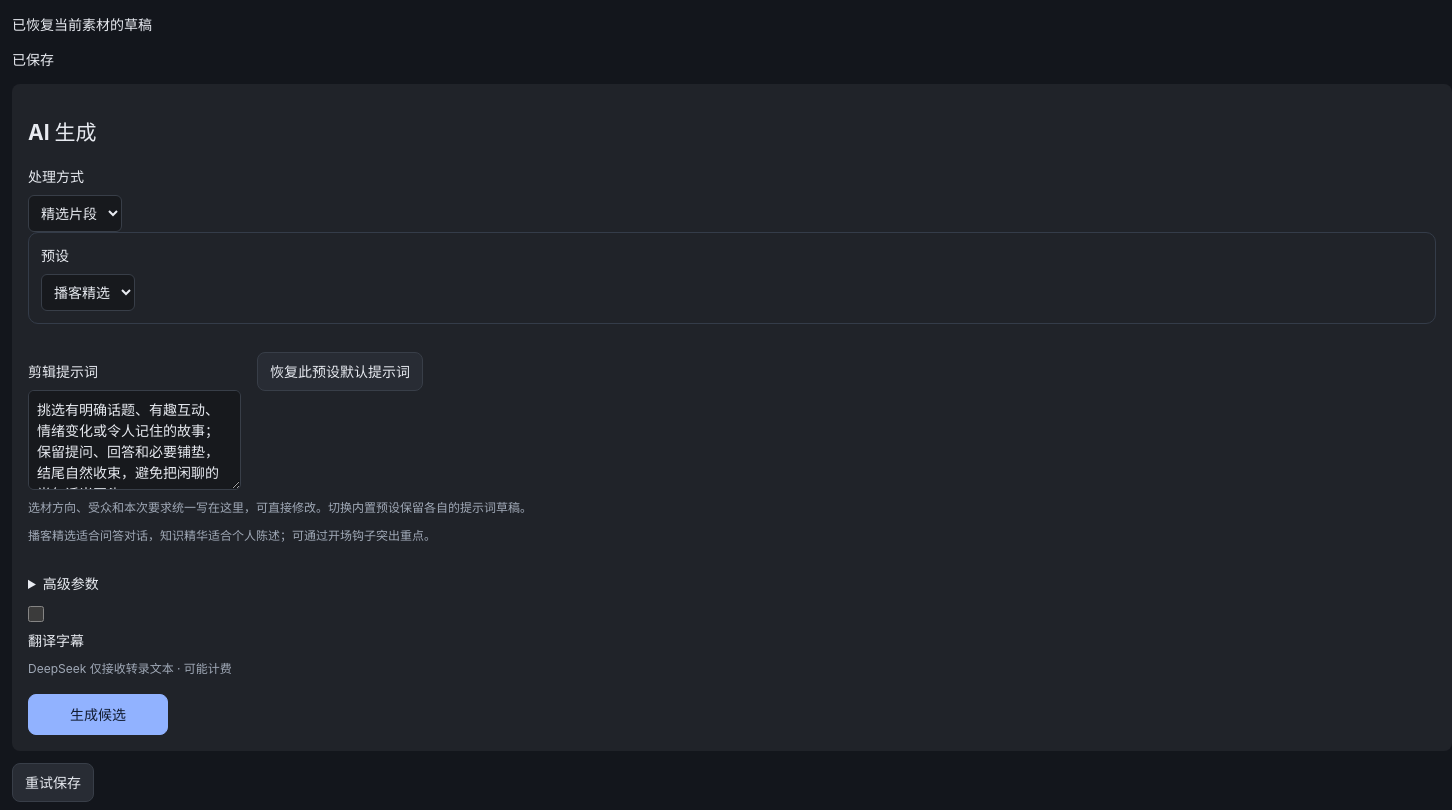
Test: 快速输入顺序保存最新值，旧响应不会覆盖草稿
Expected: the text "已保存" is shown, x1=12 y1=51 x2=54 y2=68
Replace the text in the text box labelled "剪辑提示词" with "第一版". click: (134, 440)
box: x1=28 y1=390 x2=241 y2=490
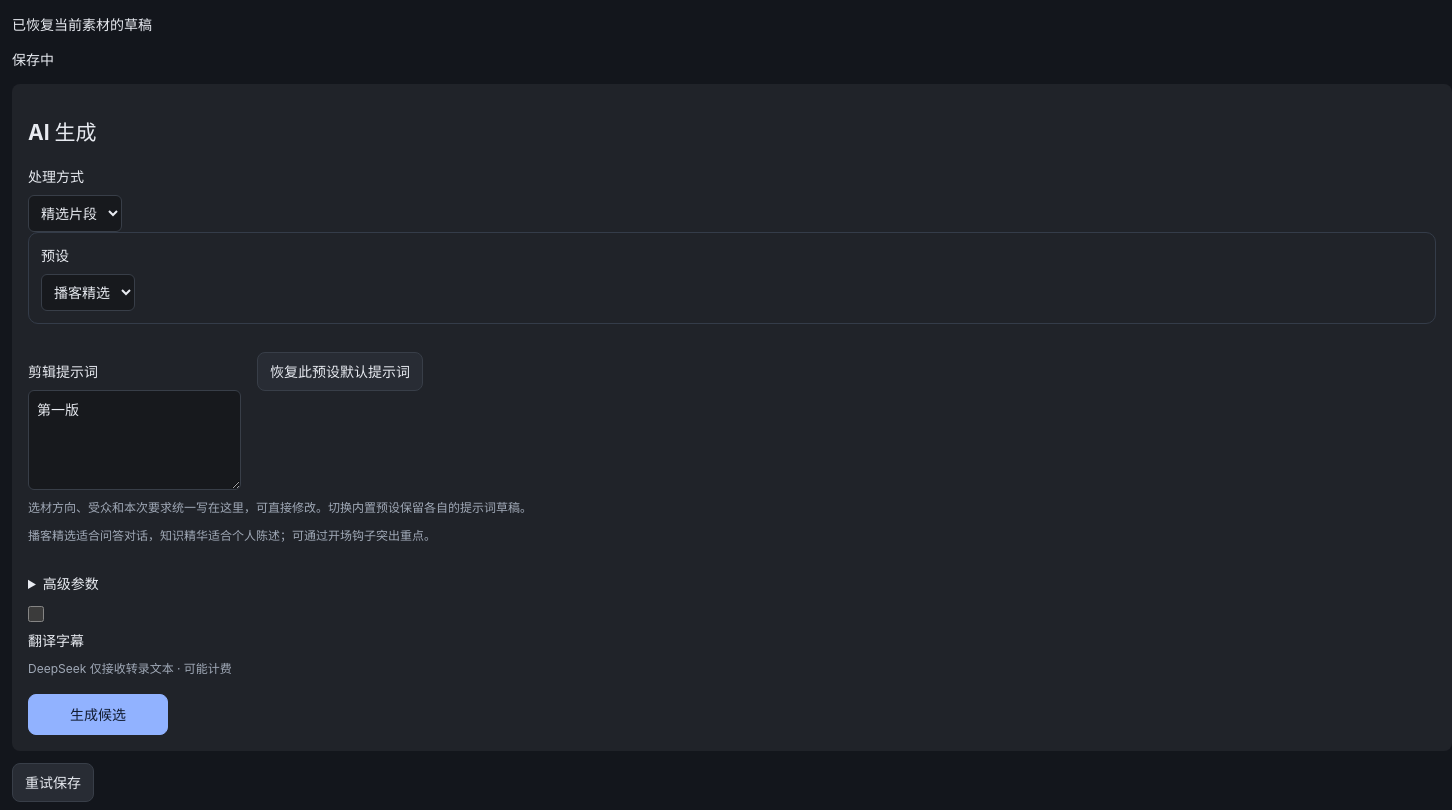
Replace the text in the text box labelled "剪辑提示词" with "第二版". click: (134, 440)
box: x1=28 y1=390 x2=241 y2=490
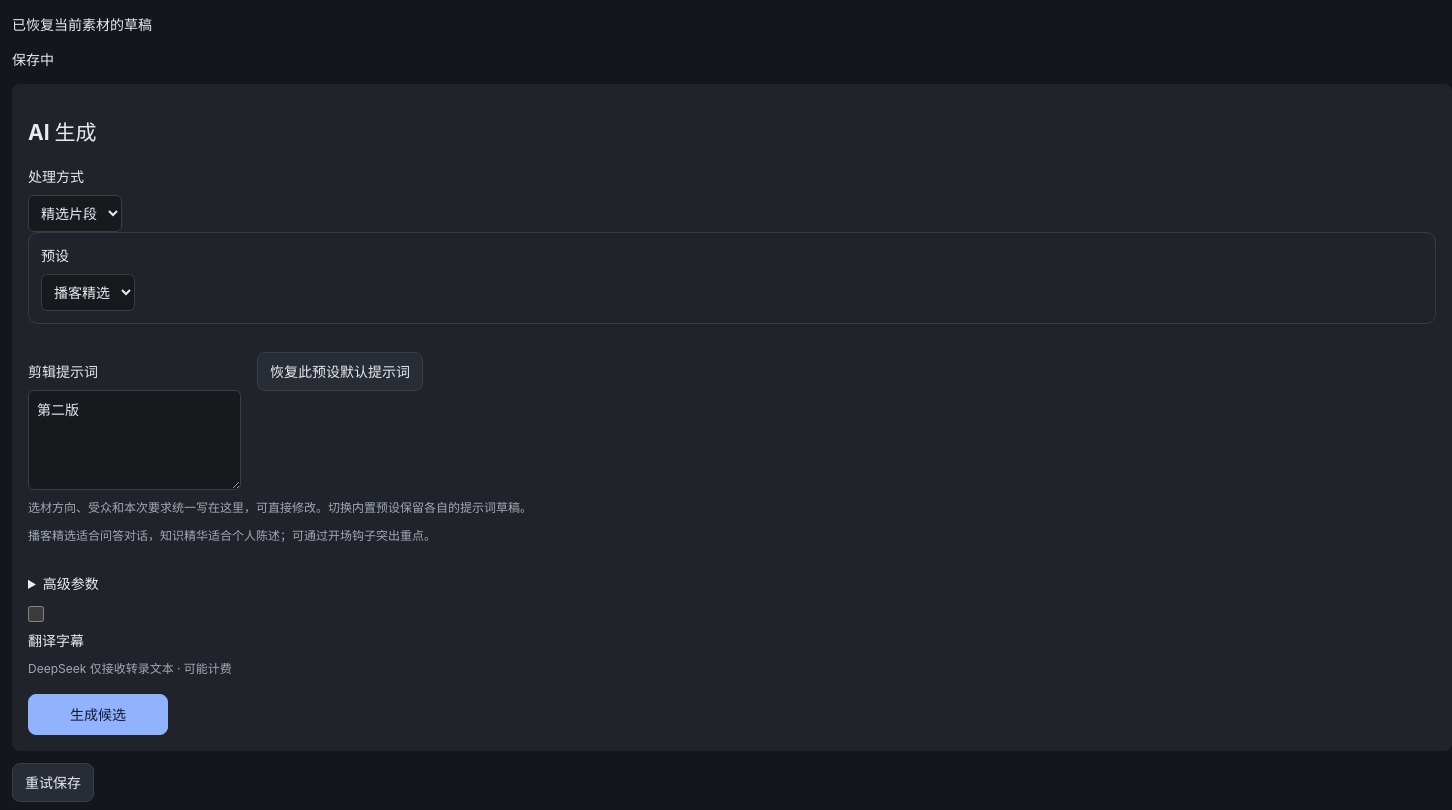
Replace the text in the text box labelled "剪辑提示词" with "最终版". click: (134, 440)
box: x1=28 y1=390 x2=241 y2=490
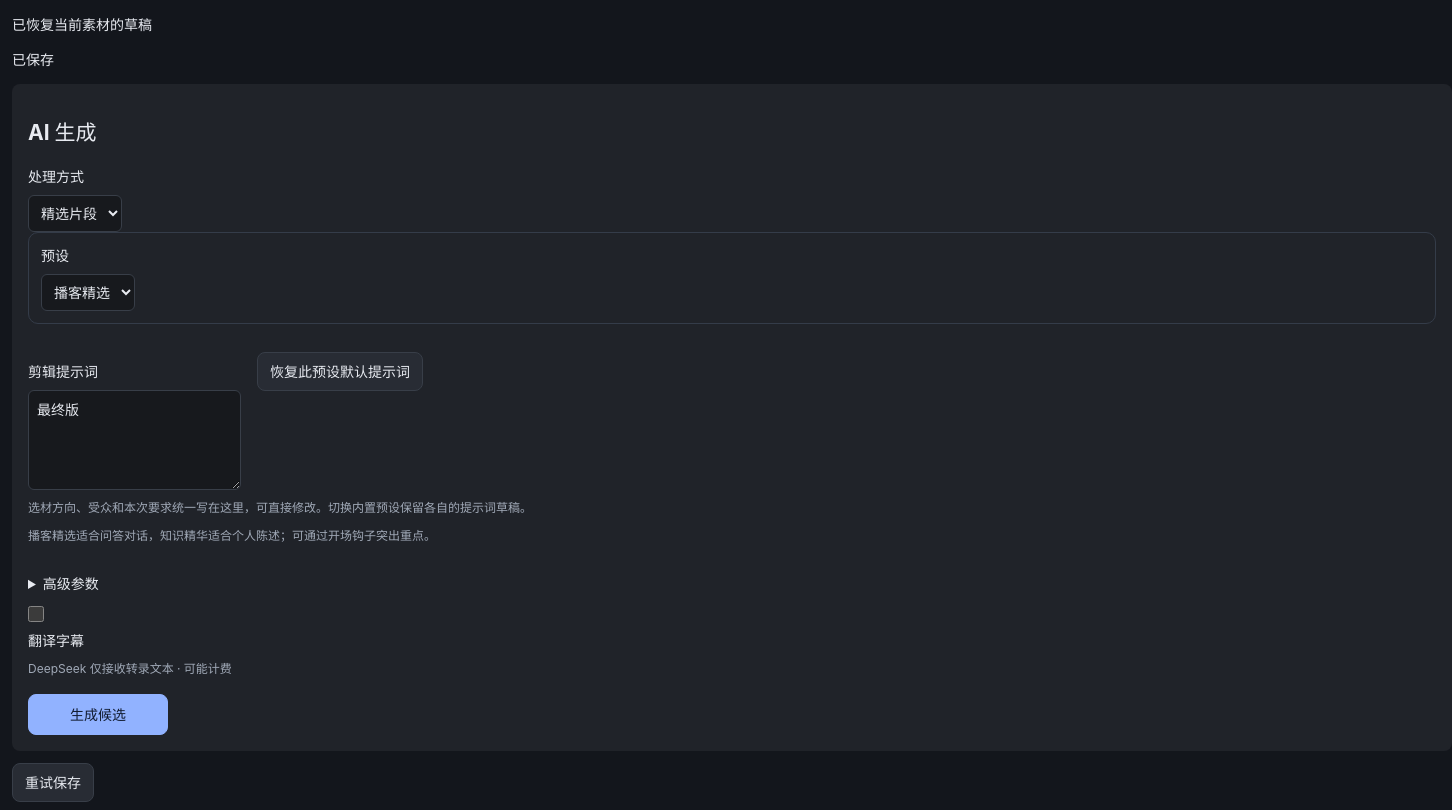
Now the text "已保存" is shown, box x1=12 y1=51 x2=54 y2=68
